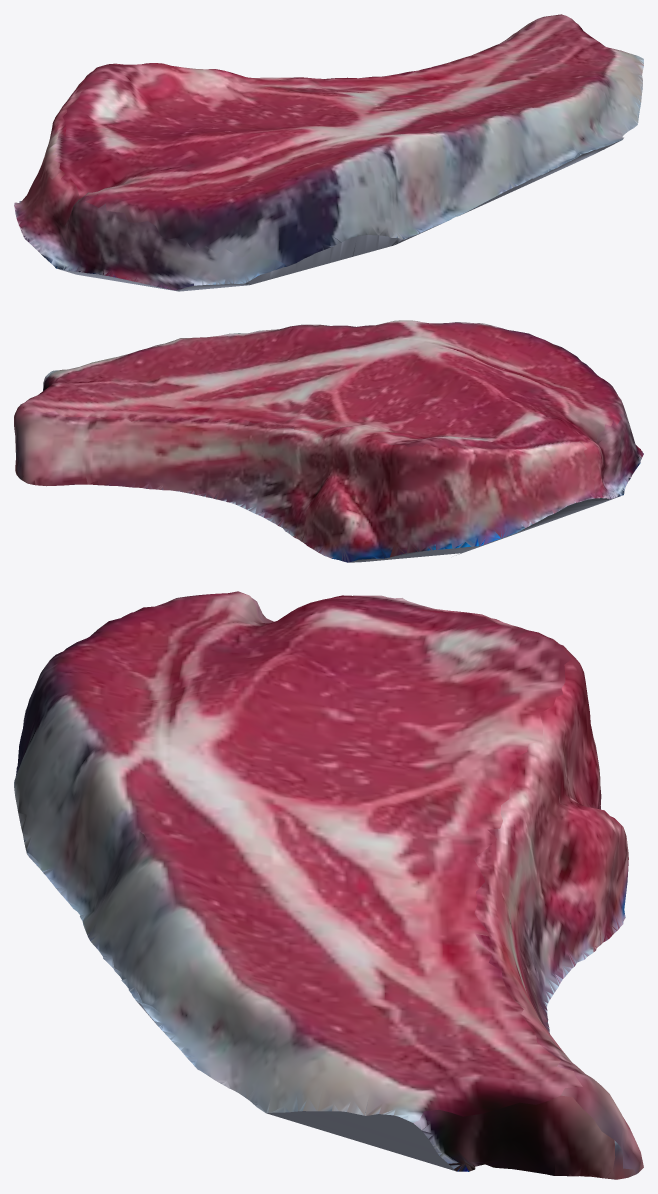
Rendered from x_carne_cote_de_boeuf.glb.
The picture shows the model from 3 angles, top to bottom: view 1: azimuth 30°, elevation 25°; view 2: azimuth 150°, elevation 25°; view 3: azimuth 270°, elevation 25°; orthographic projection. The views are drawn at different scales.
Parts seen in each view (by area): view 1: Object_2; view 2: Object_2; view 3: Object_2.
Part boxes in pixels (left/top/right/bottom): Object_2: left=14, top=14, right=643, bottom=291; Object_2: left=14, top=320, right=643, bottom=562; Object_2: left=14, top=591, right=643, bottom=1179.
Bounding box in the file's own units: 0.32 × 0.0683 × 0.1801.
Materials: 1 (1 with a texture image).
